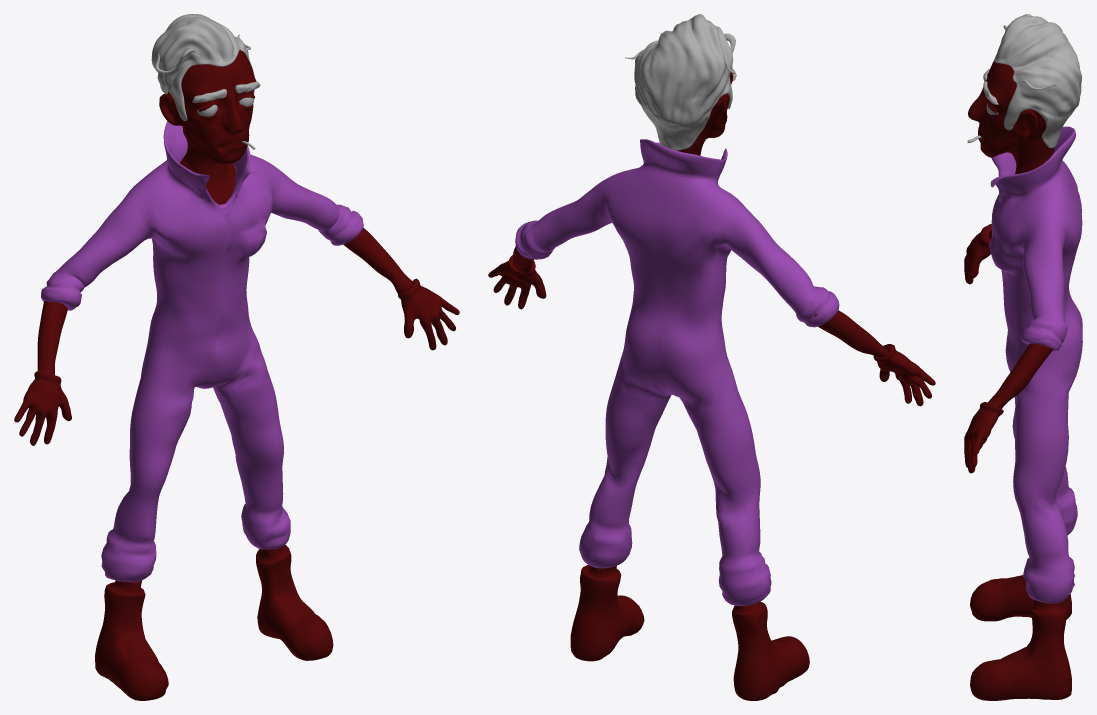
File: PlayerCharacterV2.fbx
The picture shows the model from 3 angles, left to right: view 1: azimuth 30°, elevation 25°; view 2: azimuth 150°, elevation 25°; view 3: azimuth 270°, elevation 25°; orthographic projection. The views are drawn at different scales.
Parts seen in each view (by area): view 1: polySurface56, polySurface64, polySurface58, polySurface52, polySurface57; view 2: polySurface56, polySurface64, polySurface58, polySurface52, polySurface57; view 3: polySurface56, polySurface64, polySurface58, polySurface57, polySurface52.
Part boxes in pixels (bbox=[...]): polySurface56: bbox=[41, 121, 363, 582]; polySurface64: bbox=[37, 50, 412, 700]; polySurface58: bbox=[151, 14, 254, 120]; polySurface52: bbox=[14, 371, 71, 445]; polySurface57: bbox=[398, 278, 459, 350]; polySurface56: bbox=[515, 139, 839, 606]; polySurface64: bbox=[513, 72, 888, 700]; polySurface58: bbox=[634, 14, 733, 150]; polySurface52: bbox=[873, 344, 935, 406]; polySurface57: bbox=[488, 255, 546, 309]; polySurface56: bbox=[988, 126, 1082, 603]; polySurface64: bbox=[968, 61, 1071, 700]; polySurface58: bbox=[994, 14, 1082, 148]; polySurface57: bbox=[964, 402, 1003, 473]; polySurface52: bbox=[964, 224, 991, 284].
Size of the model in its own units: 140 by 196 by 33.18.
